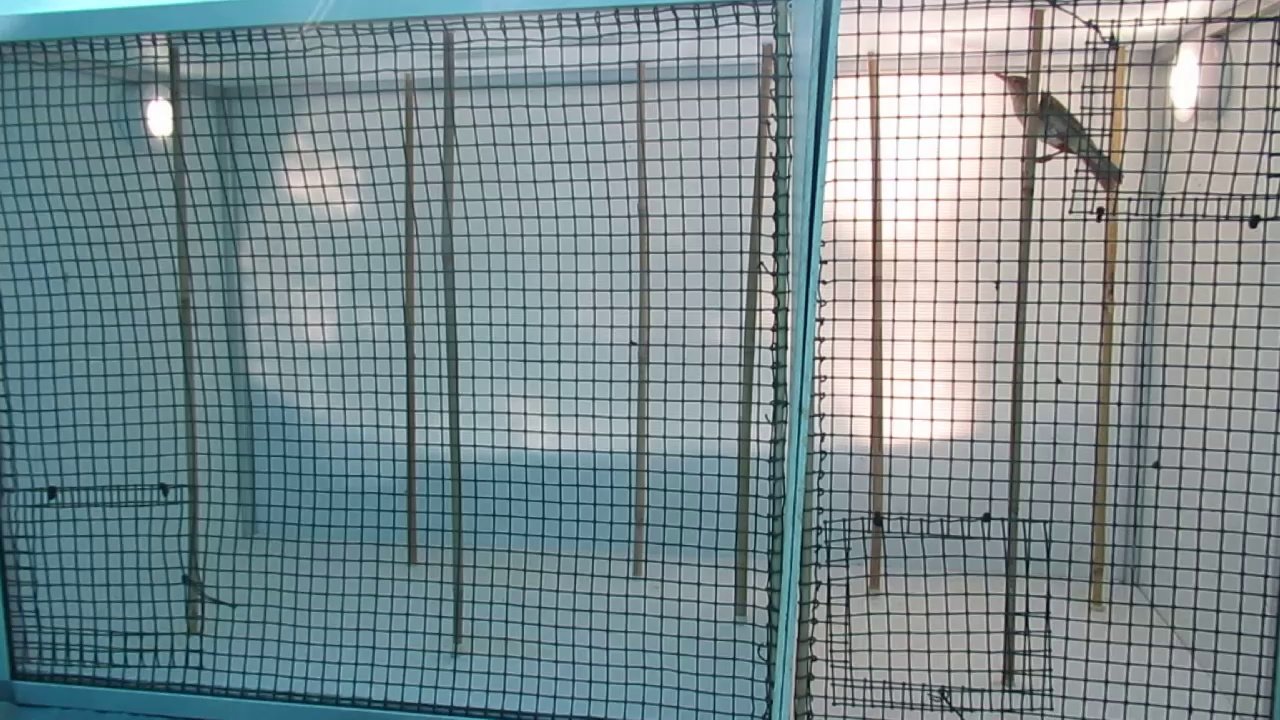bird: (993, 72, 1110, 195)
stick: (1002, 13, 1044, 684), (733, 46, 777, 617), (1089, 45, 1129, 605), (167, 49, 204, 630), (441, 36, 465, 642), (401, 78, 421, 564), (866, 59, 883, 588), (634, 62, 649, 577)
